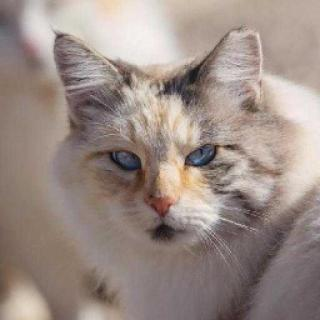cat: (51, 27, 273, 261)
nose: (142, 168, 183, 222)
